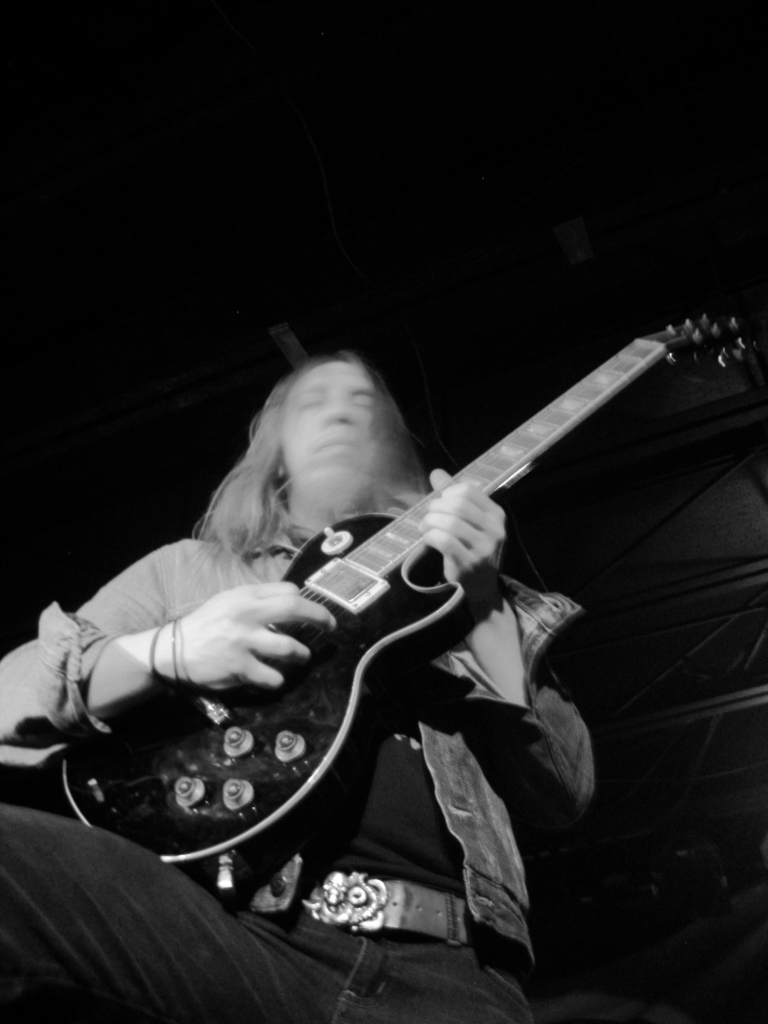Human_hand: (144, 559, 338, 721), (426, 466, 510, 606)
